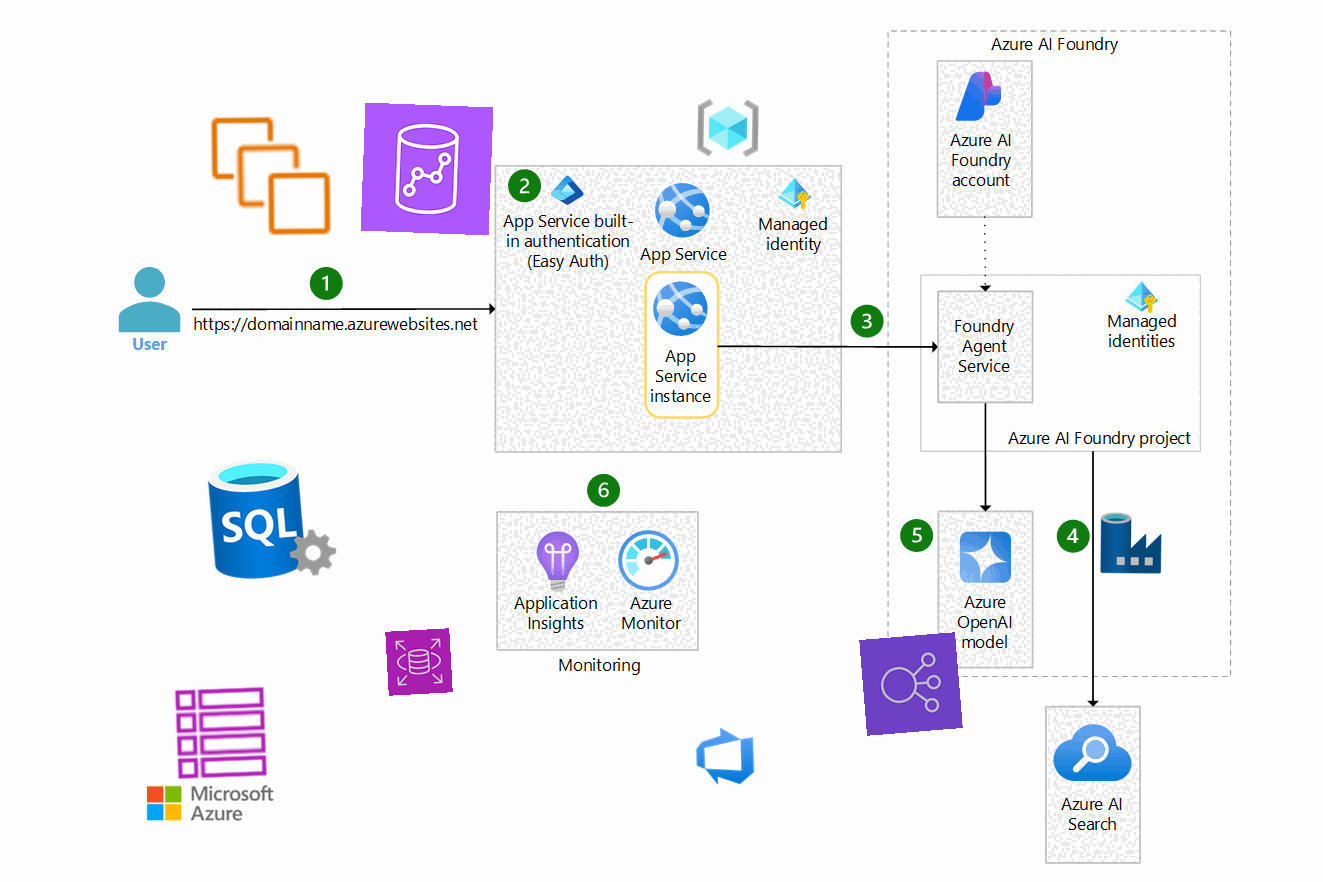aws_amazon_rds: (385, 628, 453, 696)
aws_amazon_redshift: (360, 102, 494, 236)
aws_dynamodb_table: (171, 683, 271, 783)
aws_ec2_instances: (206, 111, 336, 241)
aws_elastic_load_balancing: (859, 632, 963, 736)
azure_data_factories: (1098, 510, 1164, 576)
azure_devops: (692, 723, 758, 789)
azure_resource_groups: (695, 95, 761, 161)
azure_sql_server: (202, 448, 342, 588)
